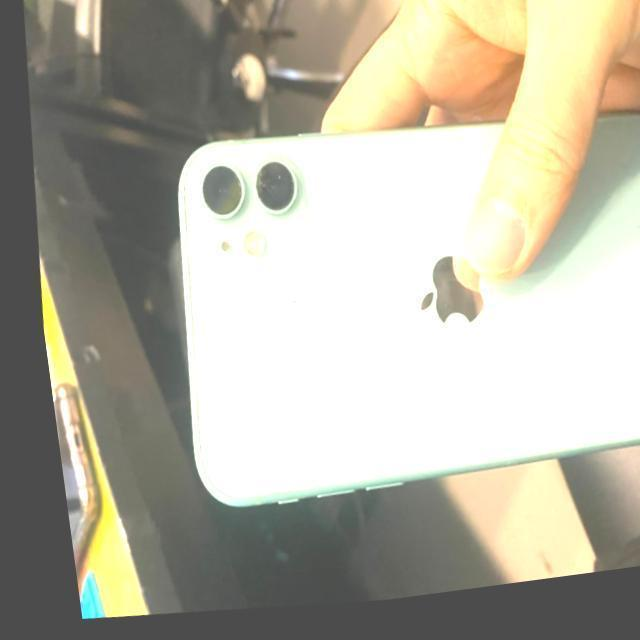phone: (175, 112, 640, 514)
